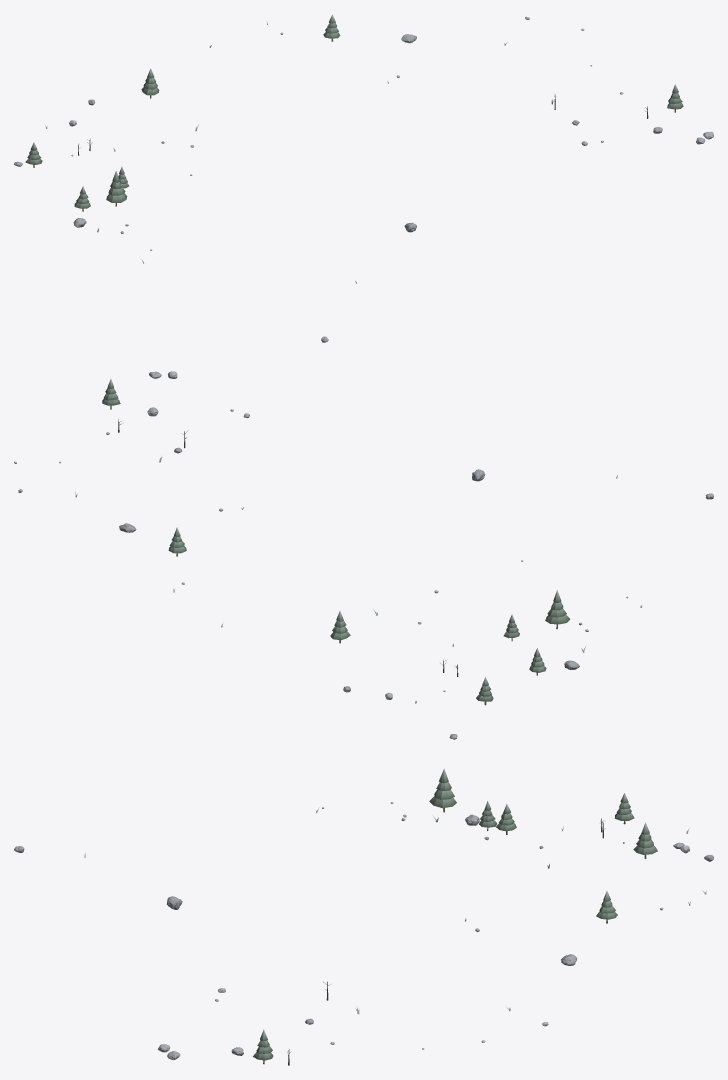
The model's file is frost_land_scatter_c12_12.glb.
The picture shows the model from 3 angles, top to bottom: view 1: azimuth 30°, elevation 25°; view 2: azimuth 150°, elevation 25°; view 3: azimuth 270°, elevation 25°; orthographic projection. The views are drawn at different scales.
Parts seen in each view (by area): view 1: frost_land_scatter_c12_12; view 2: frost_land_scatter_c12_12; view 3: frost_land_scatter_c12_12.
Boxes of the visible parts, x1,y1,x2,y2 form: frost_land_scatter_c12_12: (14, 14, 713, 342); frost_land_scatter_c12_12: (14, 371, 713, 739); frost_land_scatter_c12_12: (14, 768, 713, 1065).
Bounding box in the file's own units: 261 × 49.6 × 248.
